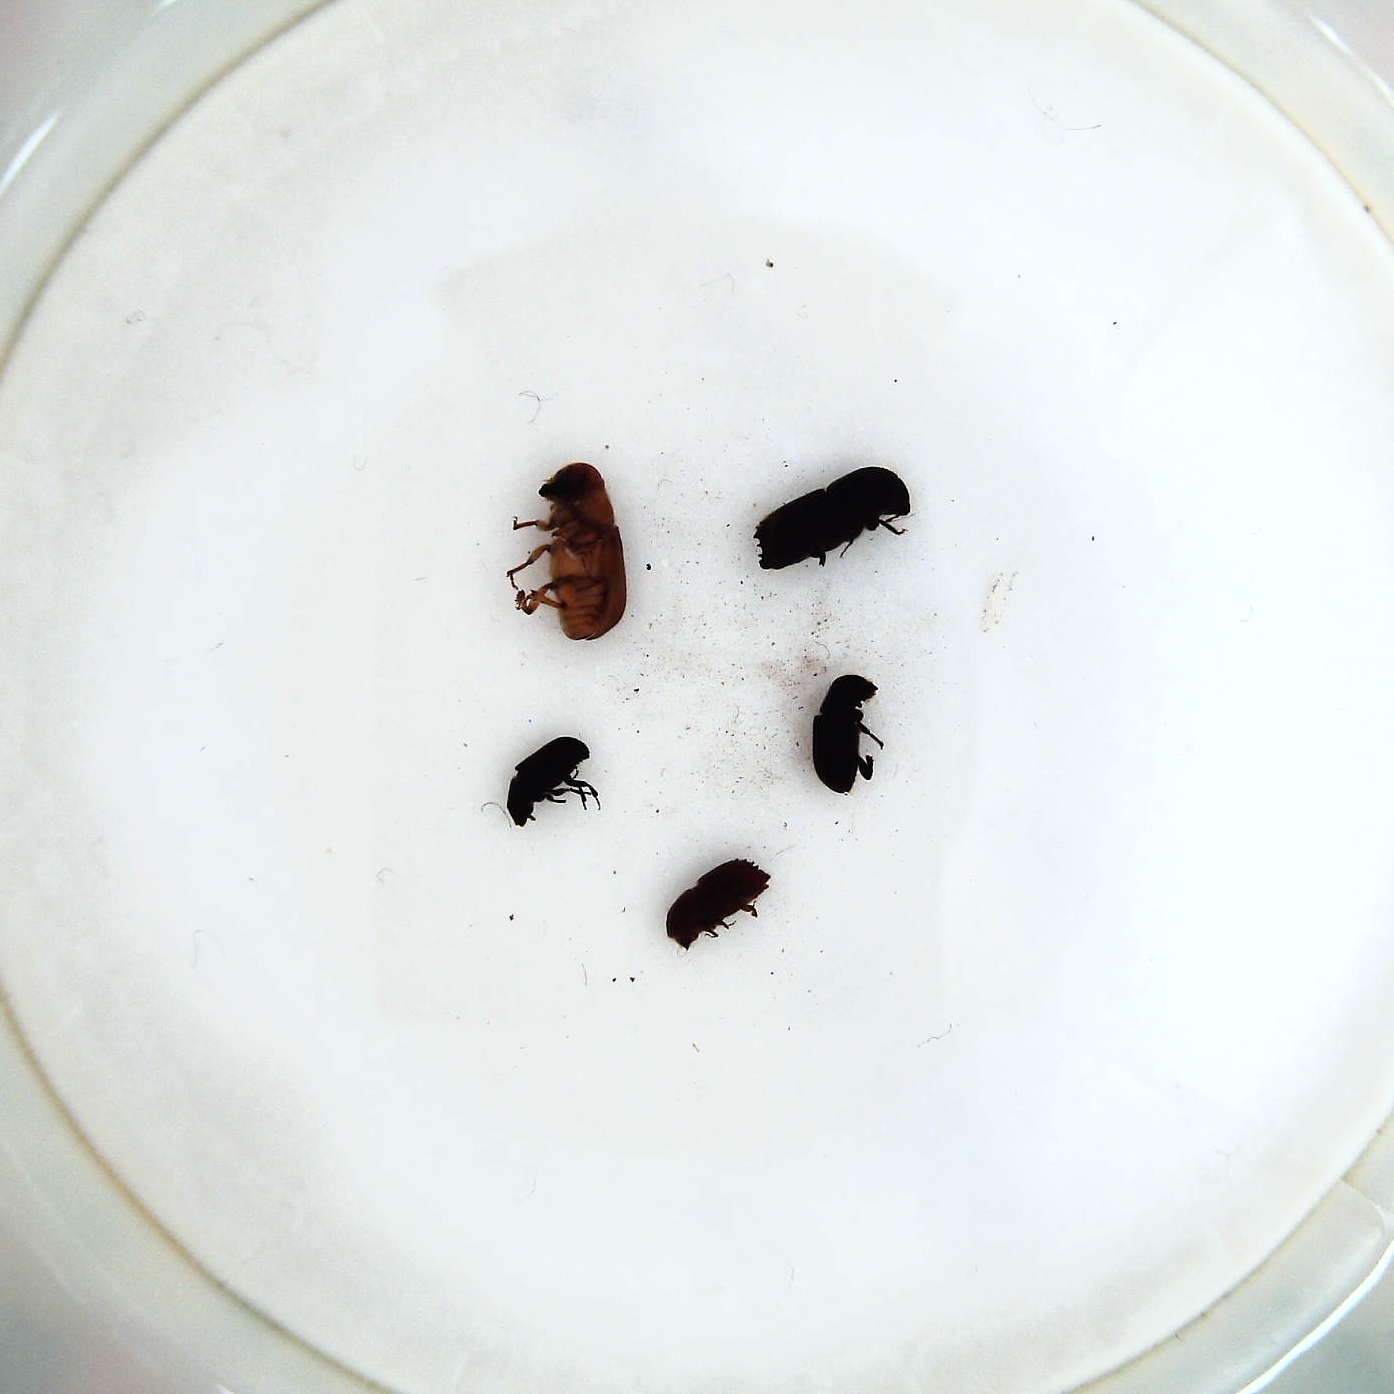Boerner: (751, 465, 919, 574)
Leconte: (506, 460, 631, 641)
armandi: (804, 665, 883, 797)
coleoptera: (504, 737, 599, 834)
linnaeus: (665, 855, 777, 957)
